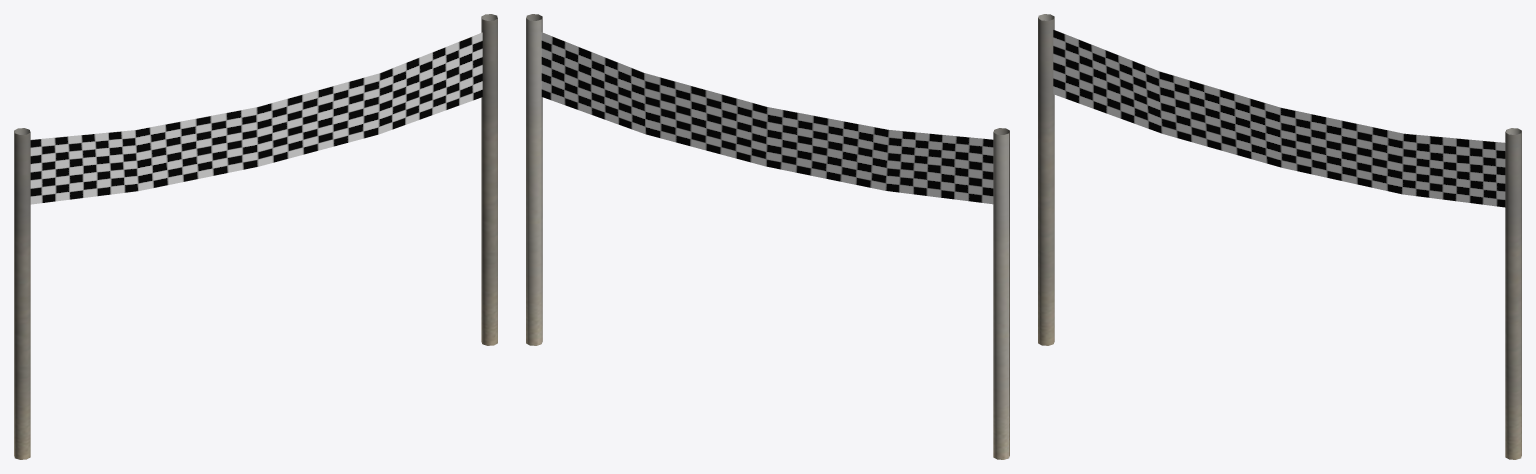
The model's file is decorations.obj.
3 renders of one model, left to right at view 1: azimuth 30°, elevation 25°; view 2: azimuth 150°, elevation 25°; view 3: azimuth 330°, elevation 25°, orthographic.
Parts seen in each view (by area): view 1: pole; view 2: pole; view 3: pole.
Part boxes in pixels (x1,y1,x2,y2): pole: (14,14,497,459); pole: (526,14,1009,459); pole: (1038,14,1521,459).
Size of the model in its own units: 10.51 by 6.77 by 0.325.
Materials: 1 (1 with a texture image).
